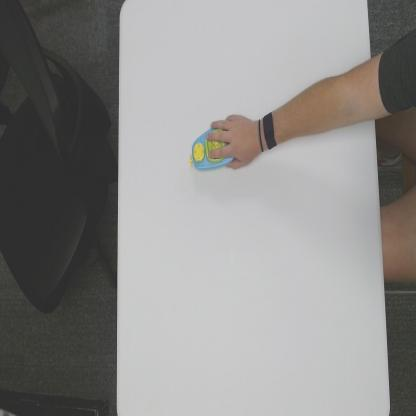Arm: (278, 63, 373, 143)
Boat: (188, 126, 235, 171)
Hand: (206, 113, 260, 171)
